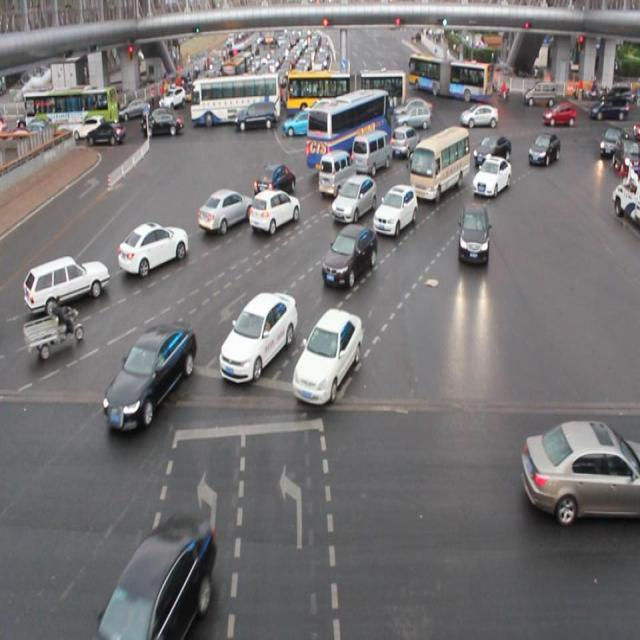car: (92, 515, 216, 640), (520, 413, 640, 527), (100, 318, 198, 432), (291, 307, 365, 406), (218, 290, 296, 382), (23, 254, 109, 318), (117, 221, 189, 276), (322, 222, 376, 286), (196, 186, 254, 234), (374, 185, 419, 237), (330, 174, 375, 222), (251, 189, 299, 231), (458, 202, 490, 263), (254, 162, 296, 203), (472, 156, 512, 198), (472, 135, 511, 171), (527, 132, 558, 167), (390, 125, 419, 161), (409, 140, 441, 172)
truck: (411, 126, 469, 202), (351, 130, 394, 177), (317, 151, 356, 196)
van: (306, 90, 392, 174)
